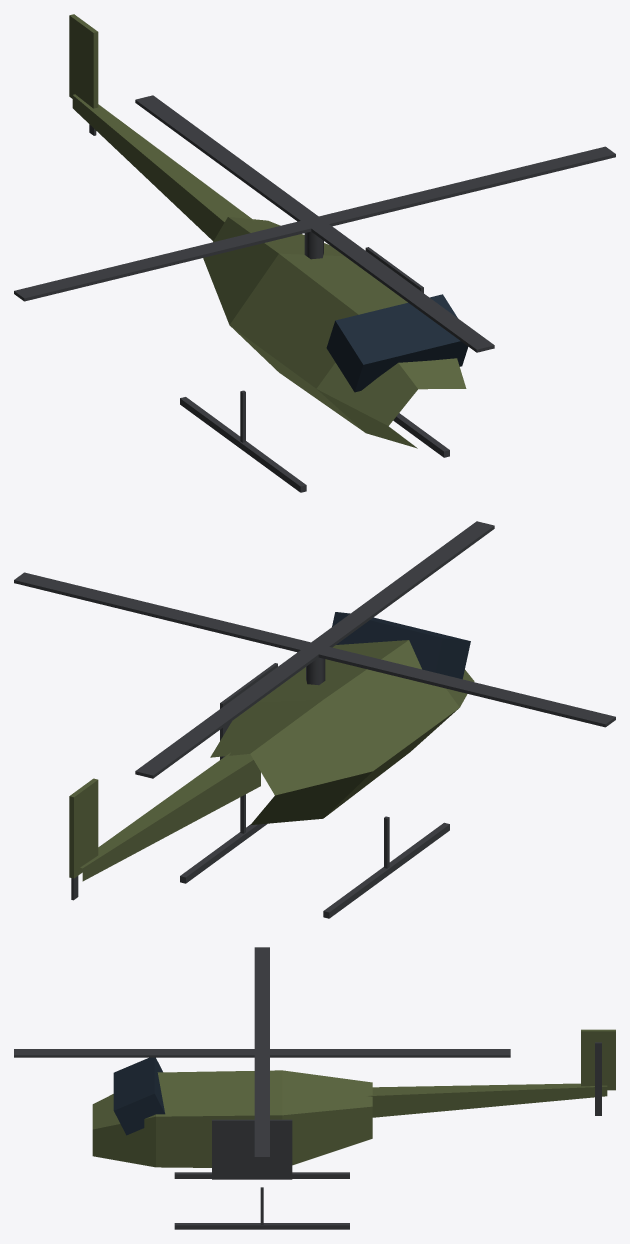
Rendered from veh_air_heli_transport_a06_lod1.glb.
The picture shows the model from 3 angles, top to bottom: view 1: azimuth 30°, elevation 25°; view 2: azimuth 150°, elevation 25°; view 3: azimuth 270°, elevation 25°; orthographic projection. The views are drawn at different scales.
Parts seen in each view (by area): view 1: body, rotor; view 2: body, rotor; view 3: body, rotor, door, tail_rotor.
Part boxes in pixels (x1,y1,x2,y2): body: [69, 14, 468, 492]; rotor: [14, 95, 615, 352]; body: [69, 612, 474, 918]; rotor: [14, 521, 615, 778]; body: [92, 1029, 615, 1229]; rotor: [14, 947, 510, 1159]; door: [212, 1119, 292, 1179]; tail_rotor: [595, 1042, 601, 1115].
Size of the model in its own units: 9.9 by 3.8 by 12.
